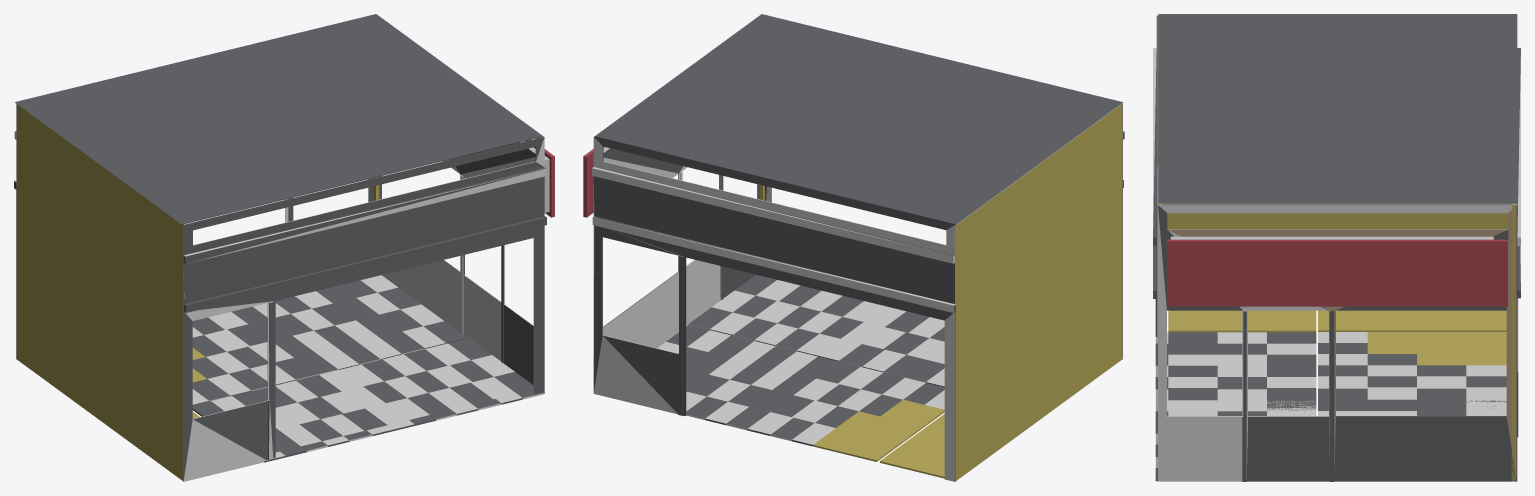
The model's file is Kiosko enorme.glb.
3 renders of one model, left to right at view 1: azimuth 30°, elevation 25°; view 2: azimuth 150°, elevation 25°; view 3: azimuth 270°, elevation 25°, orthographic. The views are drawn at different scales.
Visible parts, largest first — view 1: Mesh_Mesh_head_geo.001_lambert2SG.001; view 2: Mesh_Mesh_head_geo.001_lambert2SG.001; view 3: Mesh_Mesh_head_geo.001_lambert2SG.001.
Boxes of the visible parts, left/top/right/bottom form: Mesh_Mesh_head_geo.001_lambert2SG.001: left=14, top=14, right=554, bottom=481; Mesh_Mesh_head_geo.001_lambert2SG.001: left=583, top=14, right=1124, bottom=481; Mesh_Mesh_head_geo.001_lambert2SG.001: left=1153, top=14, right=1520, bottom=481.
Bounding box in the file's own units: 522 × 341 × 410.
